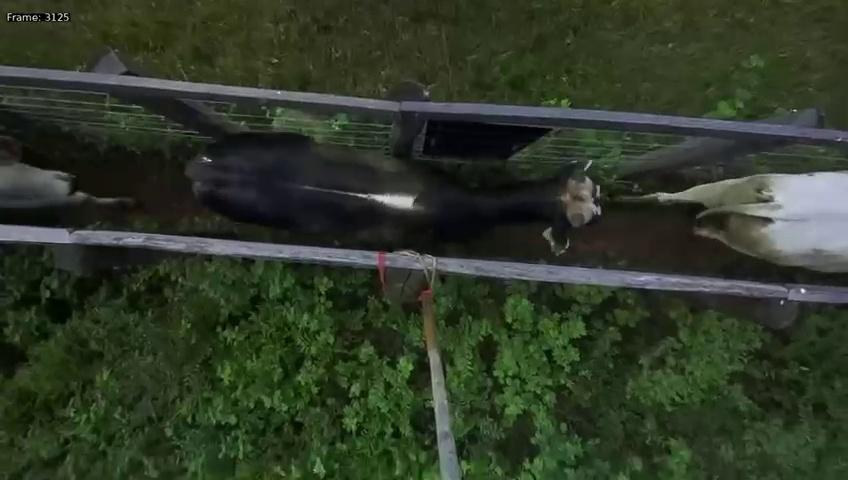cattle: (178, 122, 605, 261)
